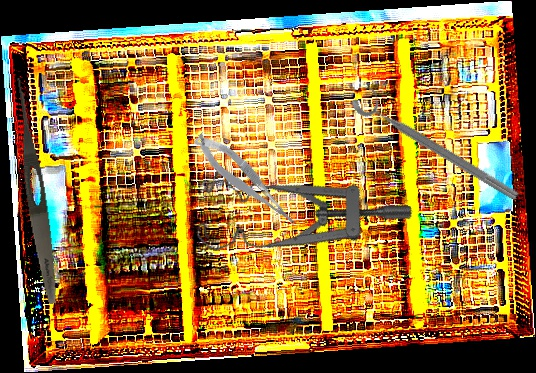Dressing Forceps: (7, 76, 63, 306)
Fixation Ring: (348, 81, 528, 206)
Micro Scissor: (189, 123, 301, 239)
Speculum: (183, 131, 416, 315)
